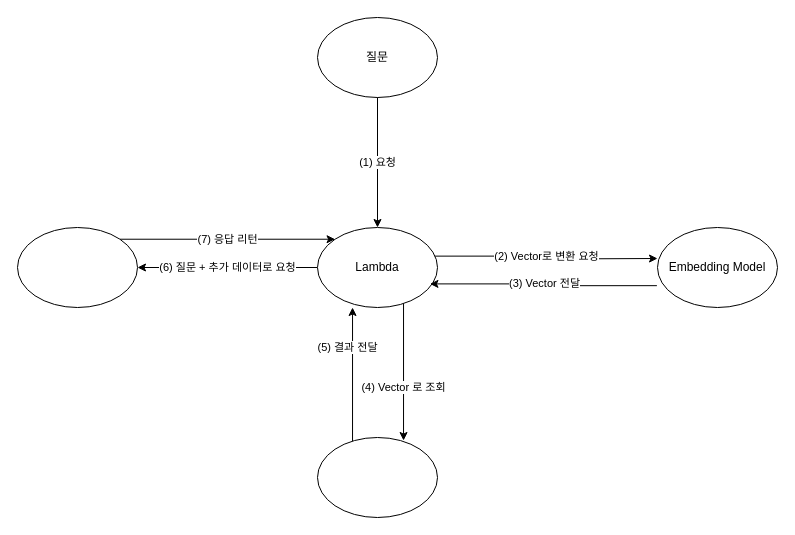
Some shapes in this 795 by 535 pixel diagram are drawn without their labels. Each missing label, with the box of its shape:
GPT: (16, 226, 138, 308)
VectorDB: (316, 436, 438, 518)
